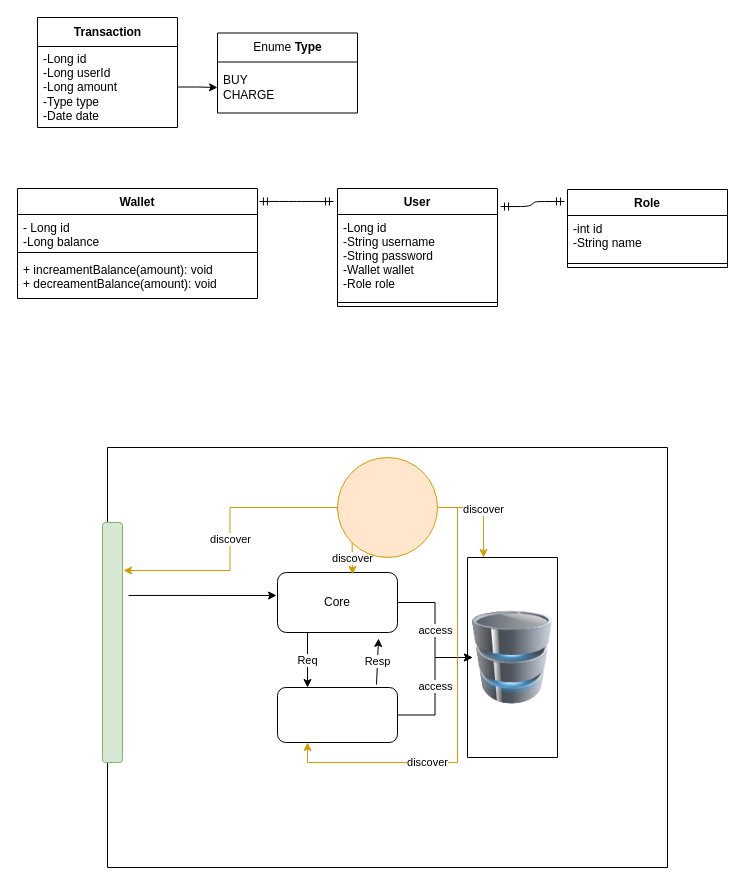
Image size: 745x885. Some labels were removed from this diagram. Here are the shapes that lost their labels. From the top down, the centre of each, then its label:
At (387,507): "Eureka Server".
At (112,642): "API Gateway".
At (337,714): "SSO".
